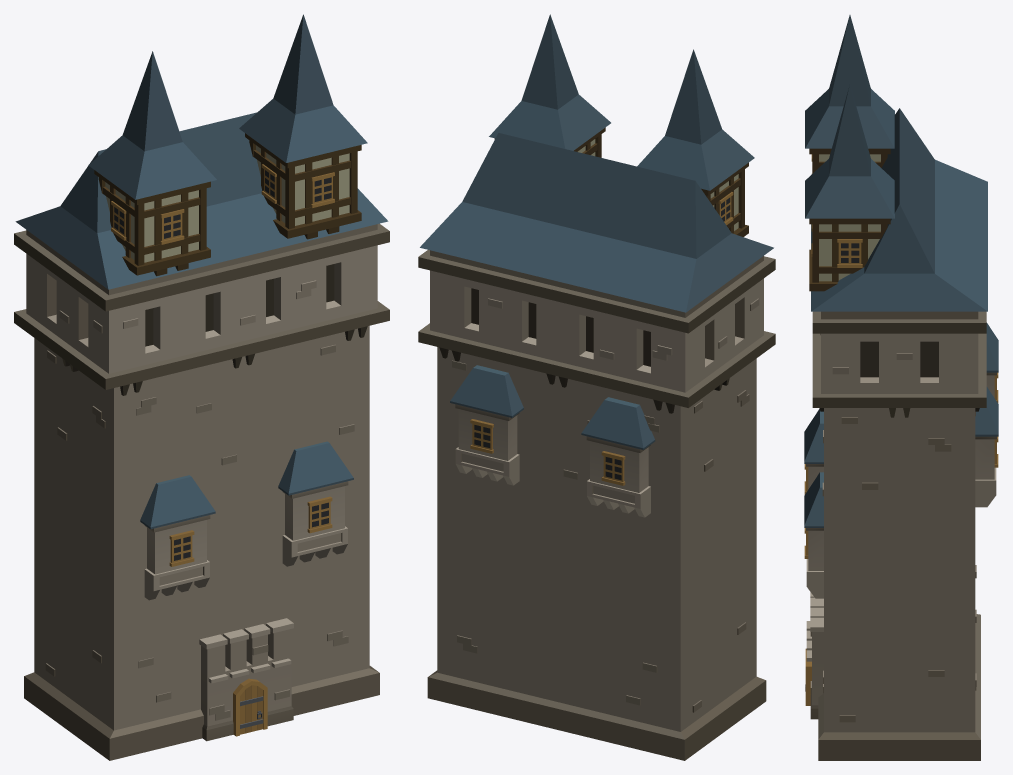
File: SF_Bld_Castle_Keep_02.fbx
The picture shows the model from 3 angles, left to right: view 1: azimuth 30°, elevation 25°; view 2: azimuth 150°, elevation 25°; view 3: azimuth 270°, elevation 25°; orthographic projection. The views are drawn at different scales.
Visible parts, largest first — view 1: SF_Bld_Castle_Keep_02; view 2: SF_Bld_Castle_Keep_02; view 3: SF_Bld_Castle_Keep_02.
Part boxes in pixels (bbox=[...]): SF_Bld_Castle_Keep_02: bbox=[14, 14, 389, 760]; SF_Bld_Castle_Keep_02: bbox=[418, 14, 775, 760]; SF_Bld_Castle_Keep_02: bbox=[804, 15, 998, 760].
Bounding box in the file's own units: 23.87 × 54.86 × 14.9.
